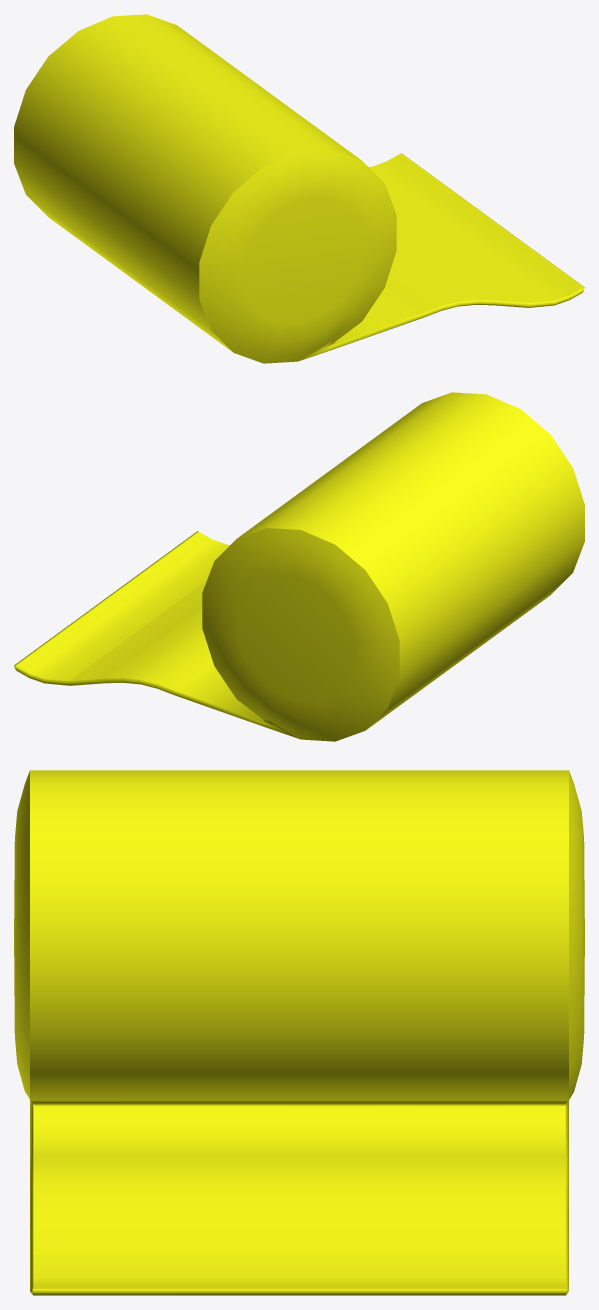
The model's file is bandages_1.FBX.
3 views of the same model, one above another, from view 1: azimuth 30°, elevation 25°; view 2: azimuth 150°, elevation 25°; view 3: azimuth 270°, elevation 25° (orthographic). The views are drawn at different scales.
Visible parts, largest first — view 1: bandages_1; view 2: bandages_1; view 3: bandages_1.
Boxes of the visible parts, x1,y1,x2,y2 form: bandages_1: (14,14,584,363); bandages_1: (14,392,584,741); bandages_1: (14,770,584,1295).
Size of the model in its own units: 5.13 by 4.51 by 2.75.
